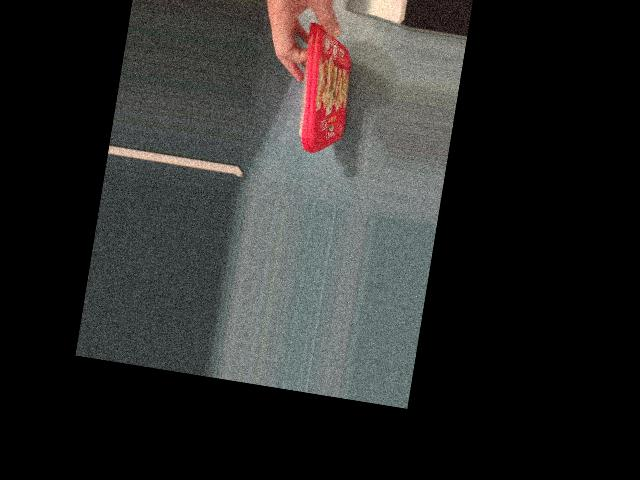cheese: (281, 22, 359, 153)
